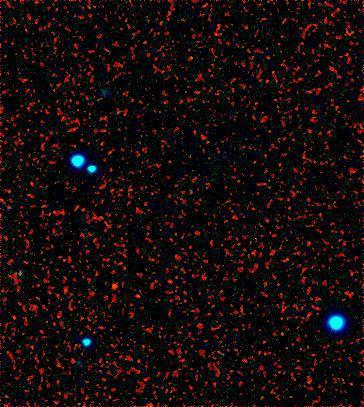star: (99, 276, 129, 306)
